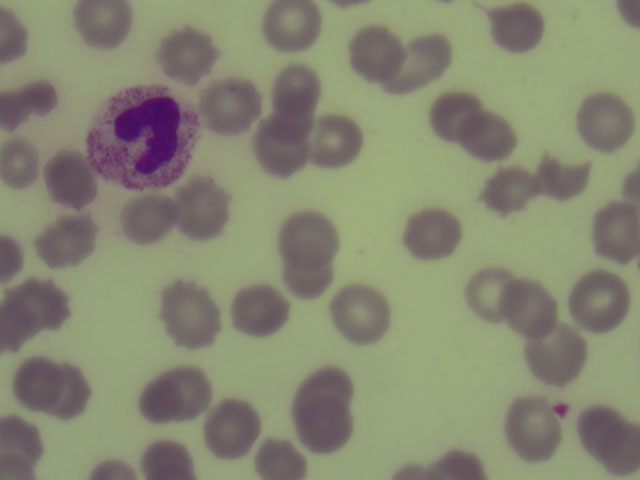Platelets: (551, 397, 573, 422)
RBC: (384, 38, 457, 91), (174, 171, 228, 241), (589, 201, 640, 265), (581, 410, 636, 465), (45, 152, 94, 212), (121, 191, 175, 245), (406, 209, 460, 260), (530, 331, 584, 382), (502, 282, 556, 333), (463, 268, 517, 319), (573, 277, 627, 328), (534, 150, 588, 201), (480, 164, 534, 215), (576, 95, 630, 146), (297, 400, 351, 451), (296, 365, 350, 416), (334, 289, 388, 340), (204, 403, 258, 454), (146, 369, 200, 420), (232, 284, 286, 335), (163, 290, 217, 341), (280, 212, 334, 263), (490, 4, 544, 55), (464, 110, 518, 161), (310, 115, 364, 166), (349, 27, 403, 78), (253, 121, 307, 172), (270, 66, 324, 117), (10, 280, 64, 331), (37, 214, 91, 265), (202, 79, 256, 130), (506, 404, 560, 455), (264, 1, 318, 51), (75, 1, 131, 48), (1, 412, 42, 475), (160, 31, 214, 77), (281, 247, 333, 294), (430, 91, 479, 140), (51, 360, 89, 421), (1, 80, 57, 121), (12, 358, 56, 410), (254, 439, 305, 480), (1, 138, 38, 190), (141, 442, 190, 480), (1, 6, 30, 69)
WBC: (93, 80, 195, 190)
